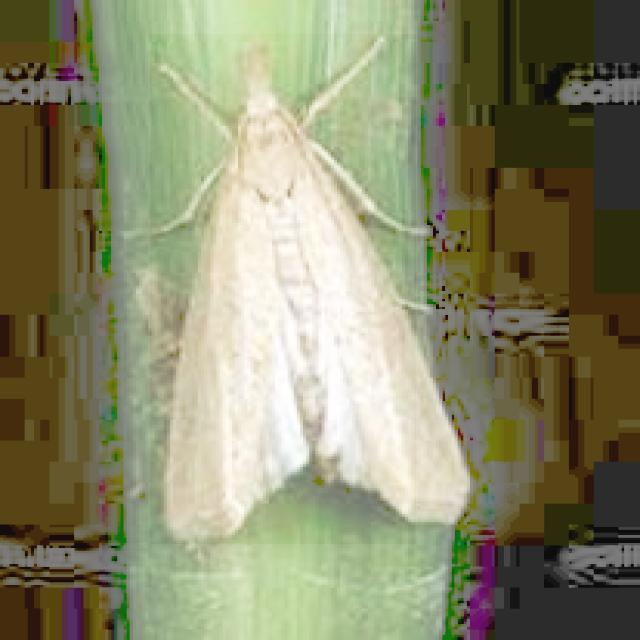stem-borer: (150, 34, 416, 544)
